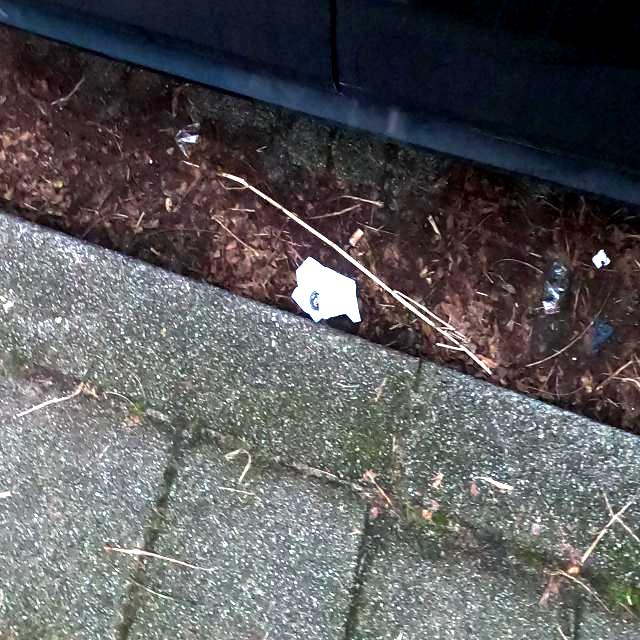Paper: (290, 255, 362, 325)
